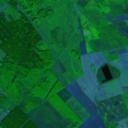alloviz: (98, 63, 114, 84)
